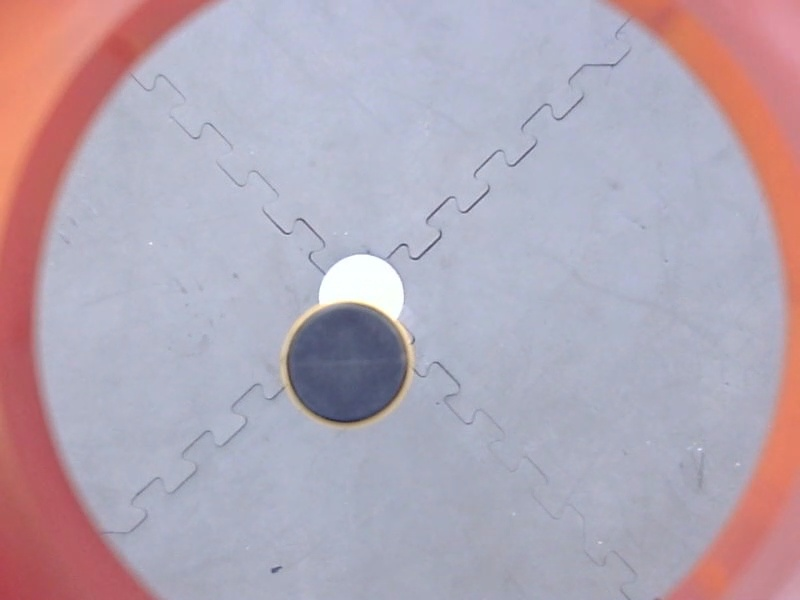tip: (274, 295, 420, 436)
